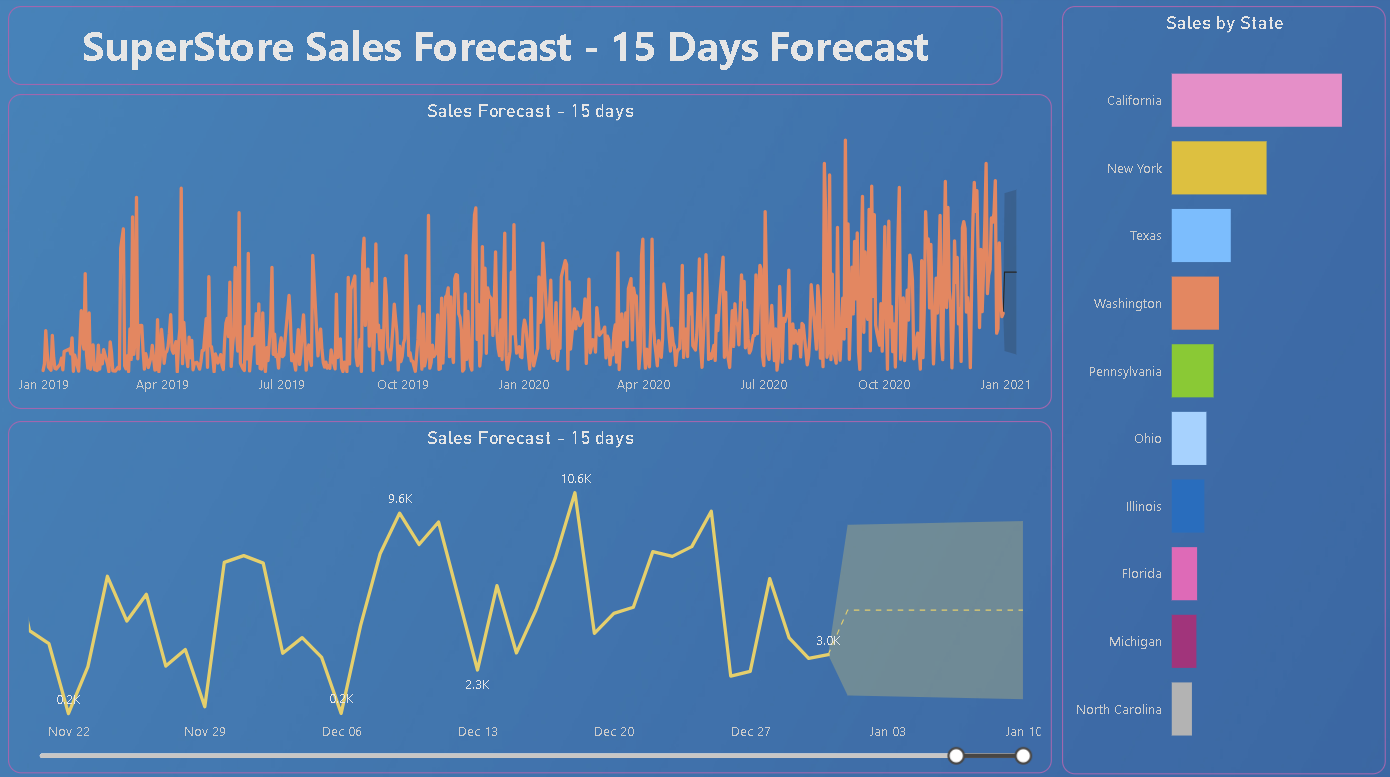

This screenshot's page, from the dashboard's own definition file:
{"tool":"powerbi","page":{"name":"Sales Forecast","canvas":[1280,720],"ordinal":1},"visuals":[{"type":"lineChart","title":"Sales Forecast - 15 days","fields":{"Y":["Sum(SalesForecast.Total Sales)"],"Category":["SalesForecast.Order Date"]},"box":[10,387.4,950.7,320.6],"z":0},{"type":"lineChart","title":"Sales Forecast - 15 days","fields":{"Y":["Sum(SalesForecast.Total Sales)"],"Category":["SalesForecast.Order Date"]},"box":[10,89.1,950.7,287.2],"z":1000},{"type":"clusteredBarChart","title":"Sales by State","fields":{"Category":["SuperStore_Sales_Dataset.State"],"Y":["Sum(SuperStore_Sales_Dataset.Sales)"]},"box":[970.7,8.9,295,700.2],"z":2000},{"type":"textbox","box":[10,8.9,906.1,72.4],"z":3000}]}

Visuals, with their boxes in screenshot pixels (x1, y1, x2, y2), scaled from the page's 1280x720 canvas onto the 1390x777 screenshot:
"Sales Forecast - 15 days" lineChart: bbox(11, 418, 1043, 764)
"Sales Forecast - 15 days" lineChart: bbox(11, 96, 1043, 406)
"Sales by State" clusteredBarChart: bbox(1054, 10, 1374, 765)
textbox: bbox(11, 10, 995, 88)
